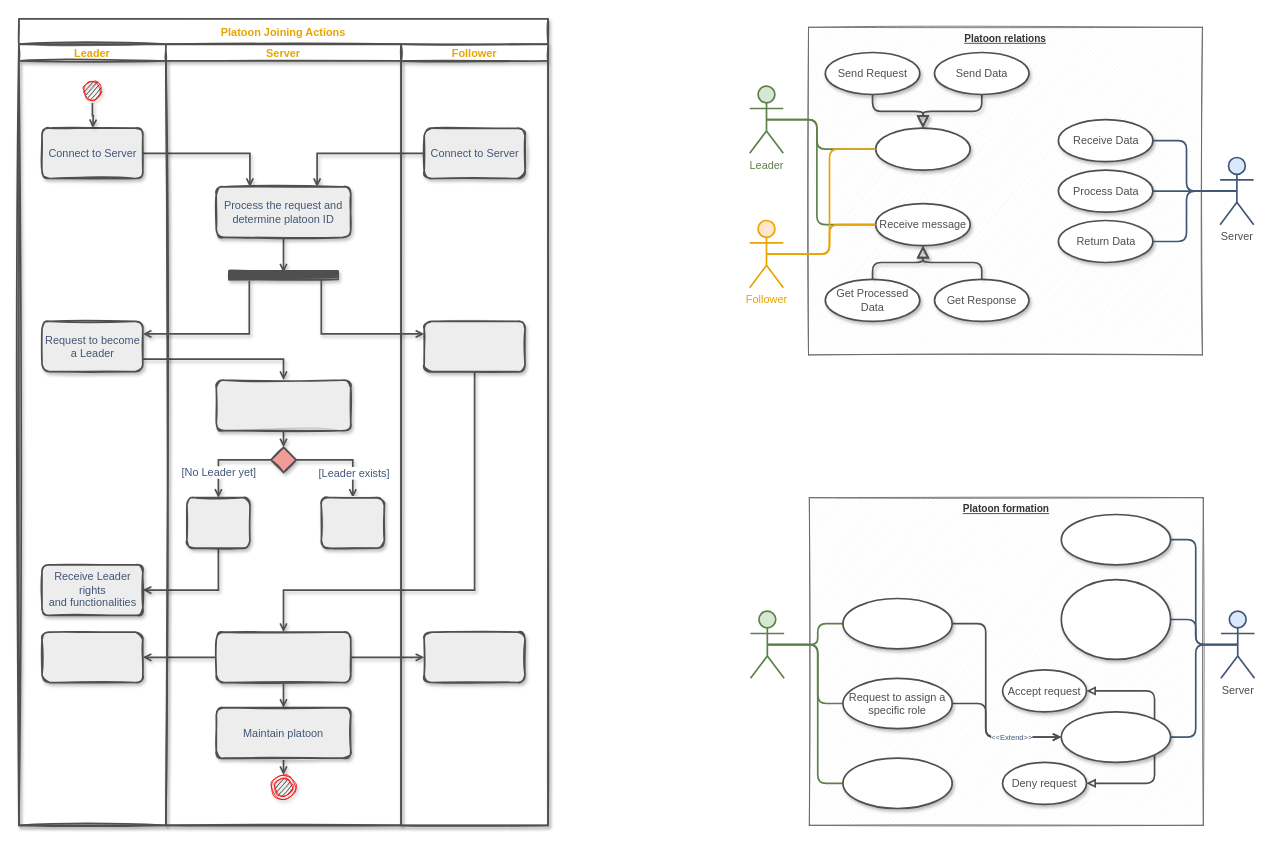
Some shapes in this 1269 by 846 pixel diagram are drawn without their labels. The centre of each missing label's shape, as x and y in pixels:
Assign Leader: the point at 218,523
Check platoon busyness and its member's statuses: the point at 1116,620
Check platoon members and their status: the point at 284,406
Determine platoon ID: the point at 1116,540
New follower joined: the point at 92,658
Process the request and notify the Leader: the point at 284,658
Receive Follower rights and functionalities: the point at 475,658
Receive the corresponding controls: the point at 898,784
Request access to platoon system: the point at 898,624
Request manager: the point at 1116,738
Request to become a Follower: the point at 475,347
Return refusal: the point at 353,523
Send message: the point at 923,149
Vehicle: the point at 767,644
